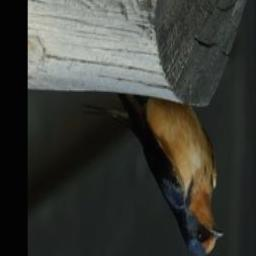Swallow: (79, 95, 225, 256)
